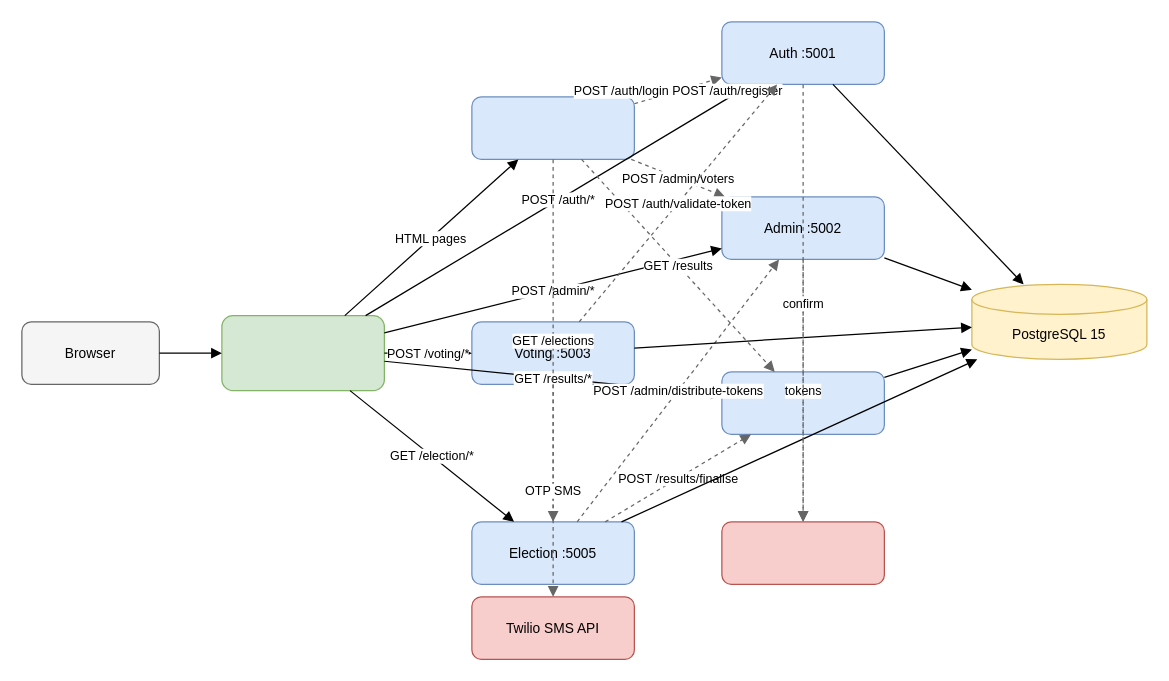
The diagram is 1169 pixels wide and 681 high, and some of its shapes have lost their labels. Here are the shapes that lost their labels. From the top down, the box of each, then its label:
(471, 96, 634, 159): Frontend :5000
(221, 314, 384, 391): NGINX Gateway :80
(721, 371, 884, 434): Results :5004
(721, 521, 884, 584): MailHog SMTP
